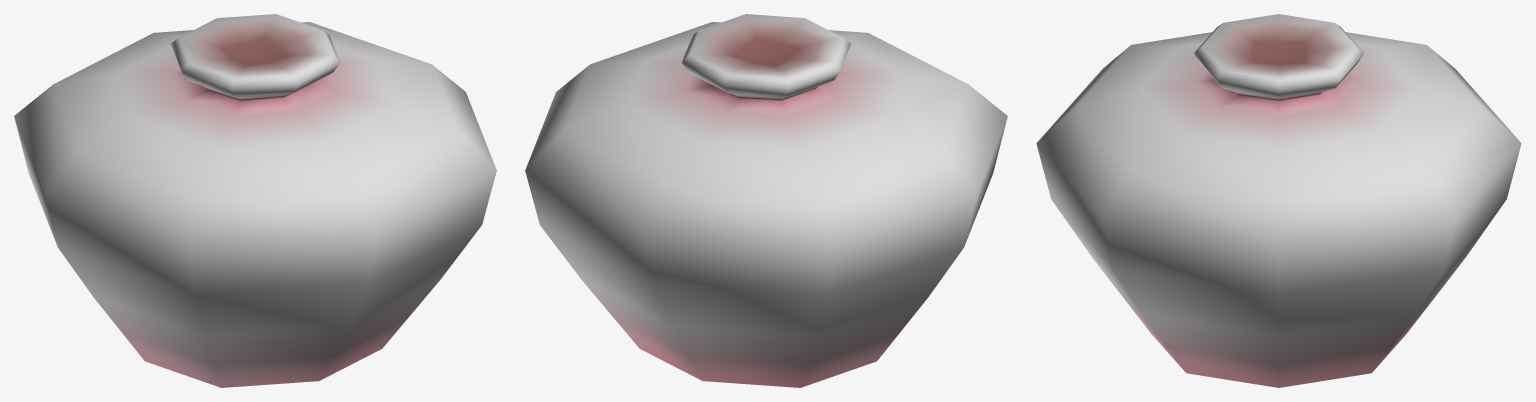
The model's file is Pot_03.fbx.
3 views of the same model, side by side, from view 1: azimuth 30°, elevation 25°; view 2: azimuth 150°, elevation 25°; view 3: azimuth 270°, elevation 25° (orthographic).
Parts seen in each view (by area): view 1: Cube.030; view 2: Cube.030; view 3: Cube.030.
Part boxes in pixels (x1,y1,x2,y2): Cube.030: (14,14,496,387); Cube.030: (525,14,1007,387); Cube.030: (1036,14,1521,387).
Size of the model in its own units: 113 by 73.94 by 113.
